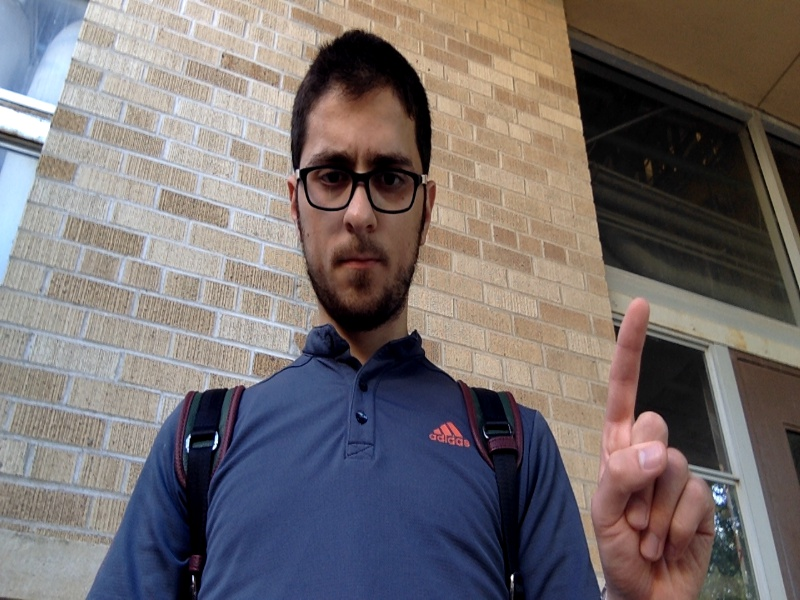1-hand: (596, 298, 714, 600)
